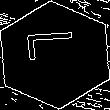L_E: (26, 38, 84, 72)
